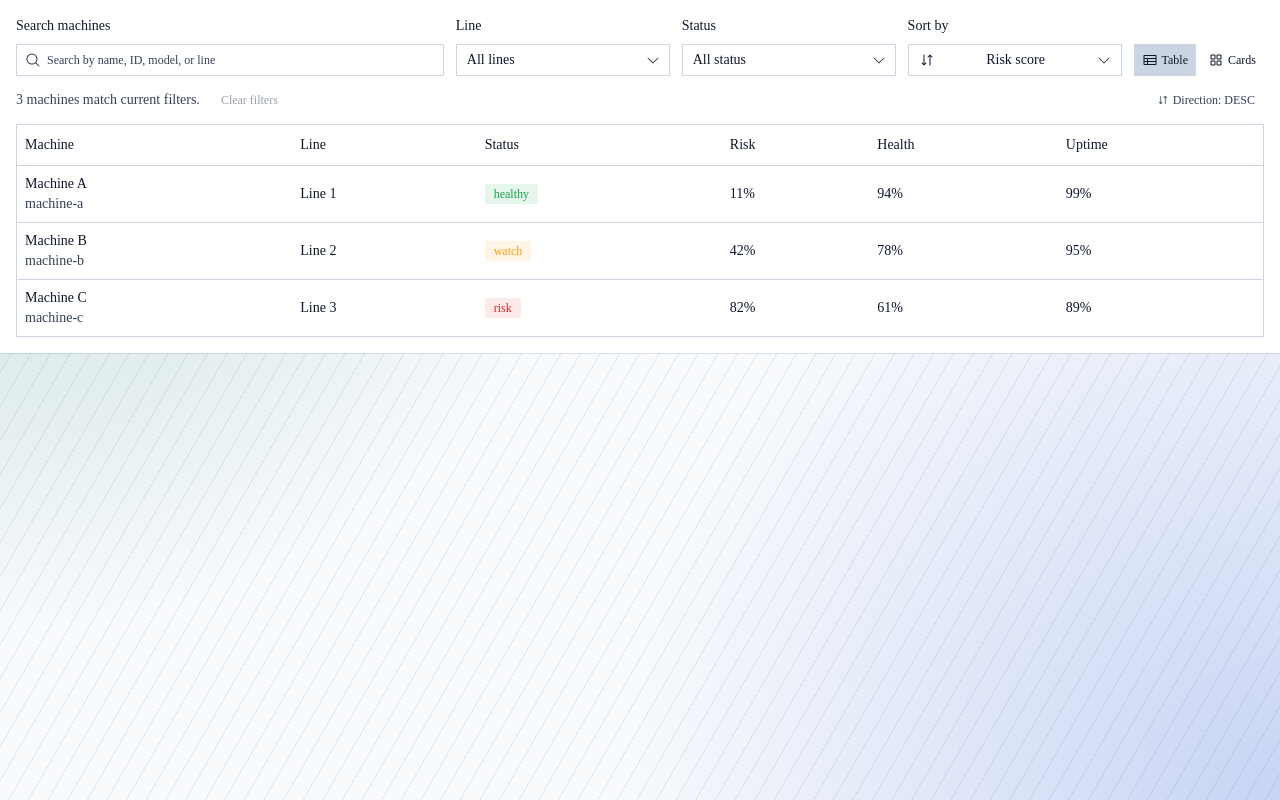
Test: a machine search with no matches keeps its controls available and can be cleared
Expected: the link "Machine A" is shown, [25,174,87,194]
Type "missing pump" into the field labelled "Search machines". click: (242, 60)
box: [41,44,443,76]
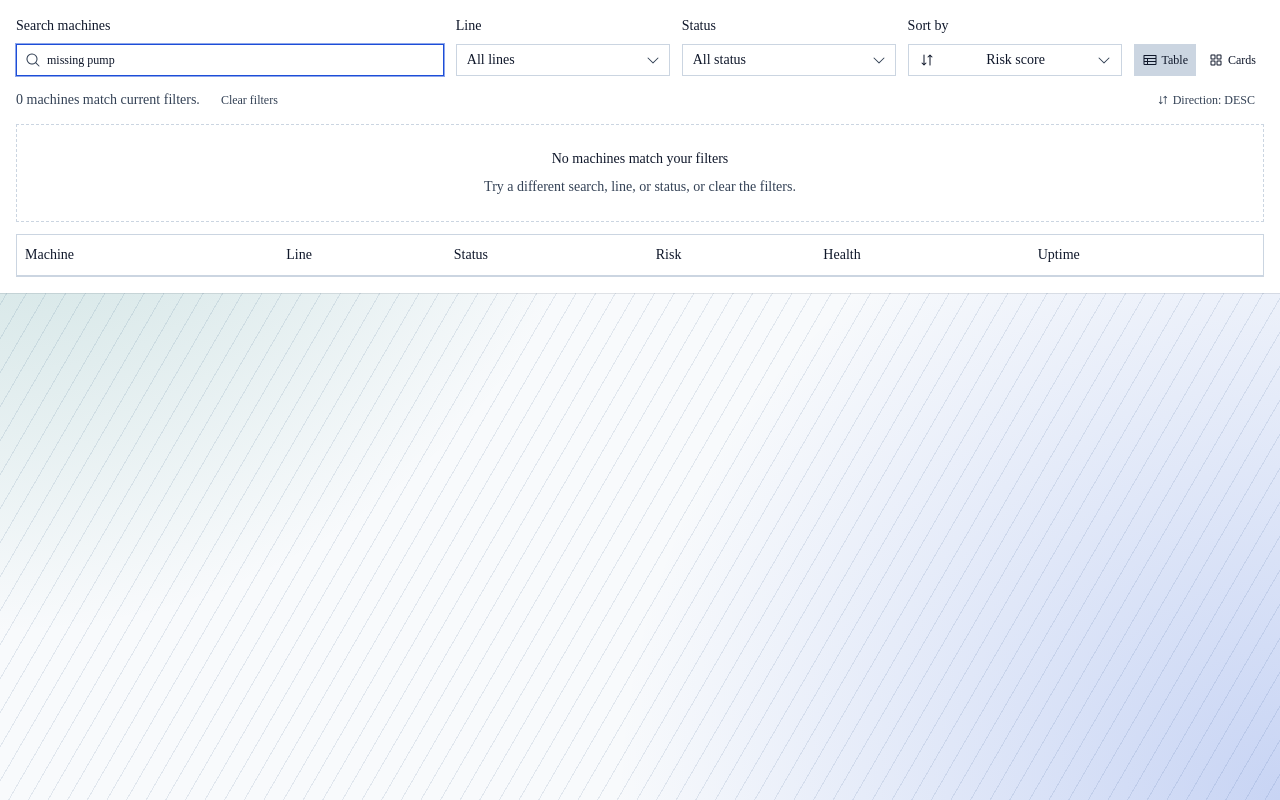
Expected: the text "No machines match your filters" is shown, [552,149,728,169]
Click the button "Clear filters". click: (249, 100)
box: [212,88,287,112]
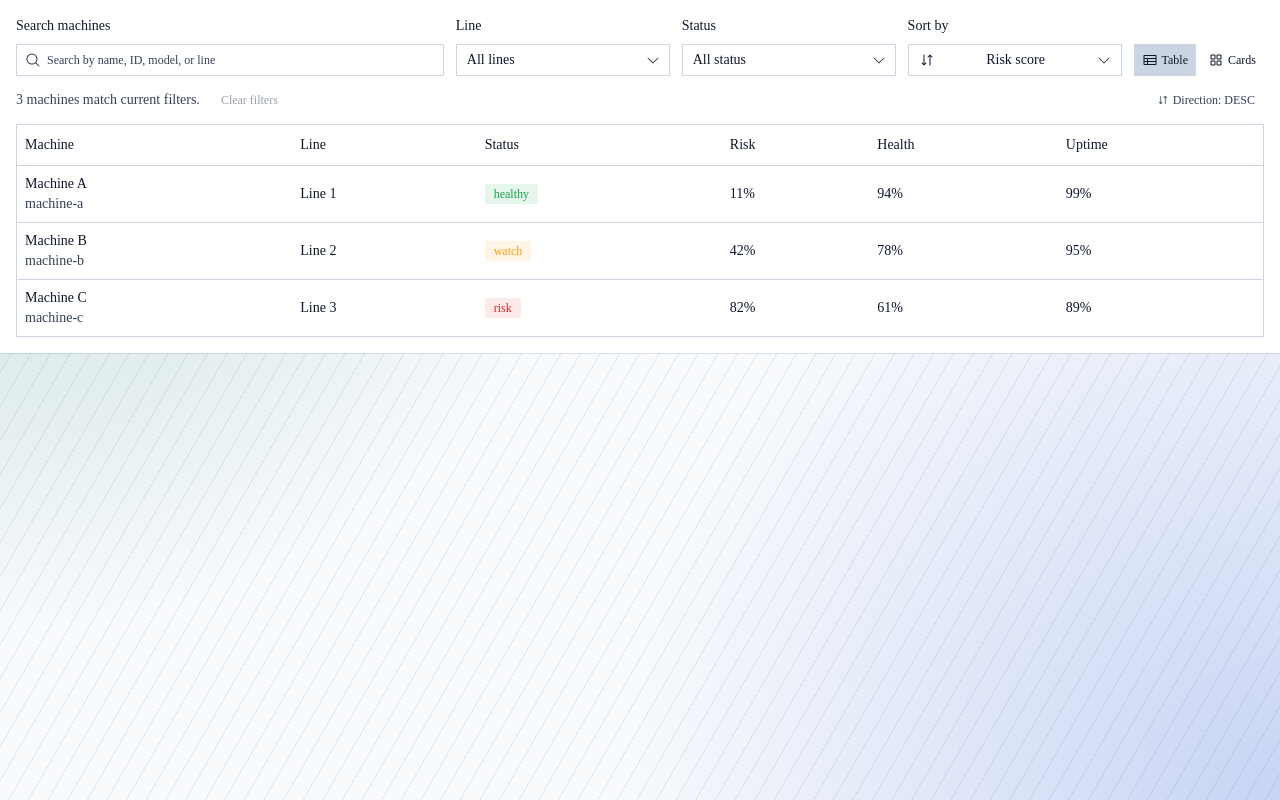
Expected: the link "Machine A" is shown, [25,174,87,194]
Expected: the field labelled "Search machines" is empty, [41,44,443,76]
